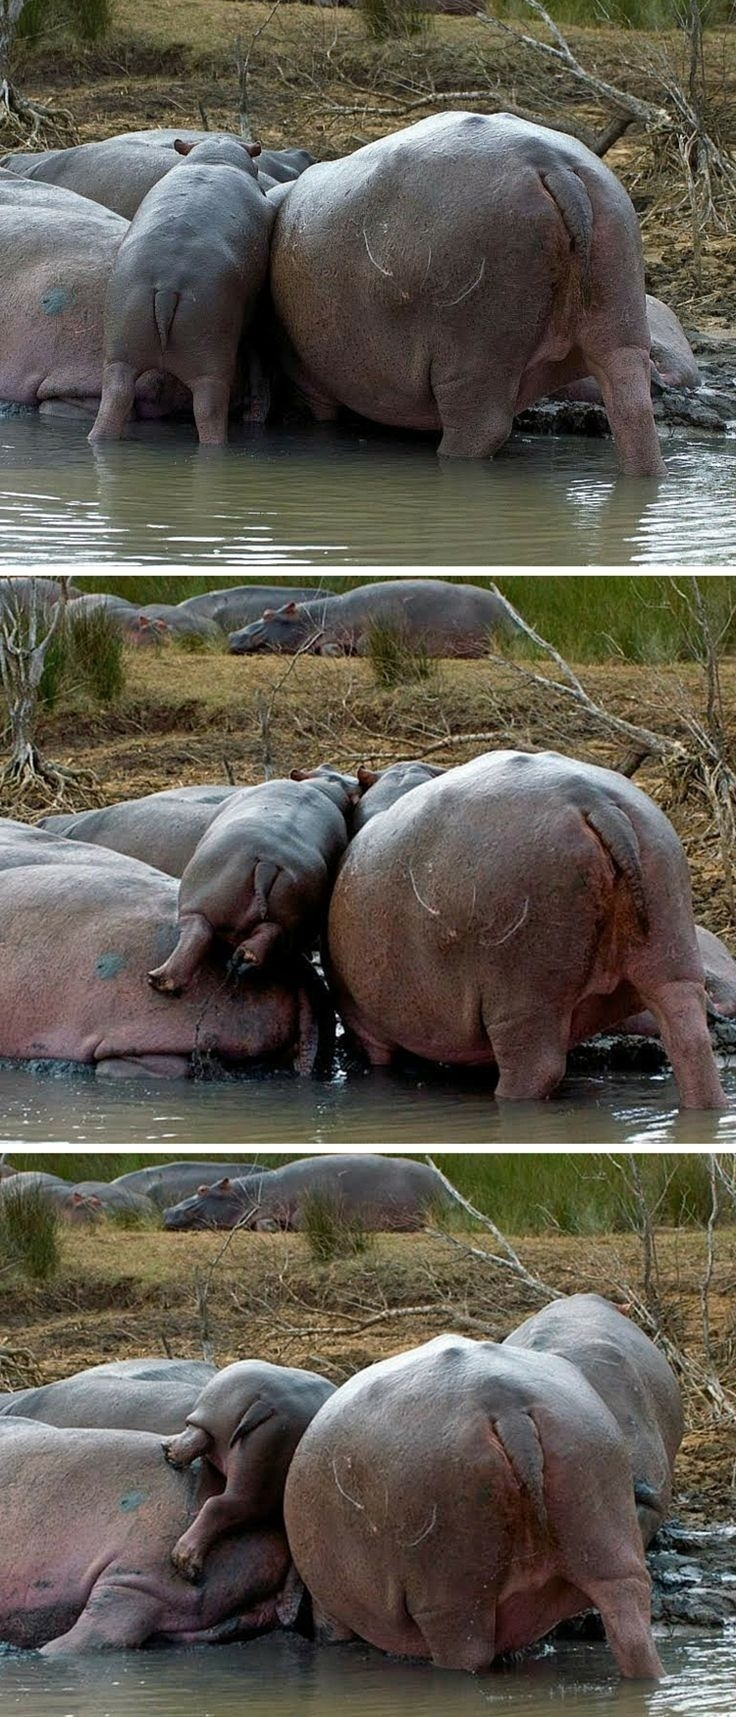hipopotamo: (266, 68, 712, 503), (325, 721, 736, 1121), (287, 1325, 694, 1694), (1, 818, 319, 1076), (3, 1401, 283, 1687), (83, 105, 287, 465), (148, 704, 363, 1003), (501, 1276, 703, 1558), (153, 1326, 340, 1581), (134, 1140, 468, 1263), (212, 580, 511, 678)
